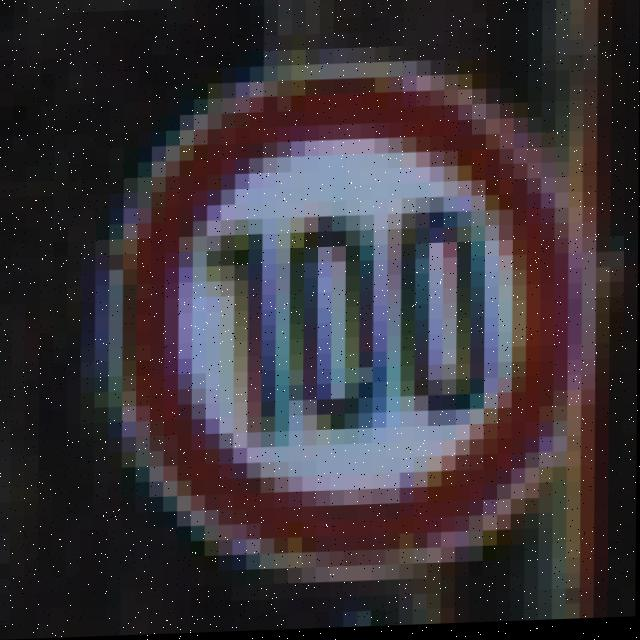speed_limit_100: (103, 66, 612, 562)
